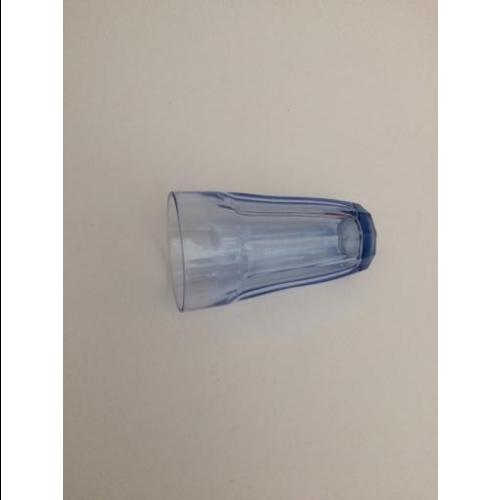glass: (171, 194, 377, 296)
